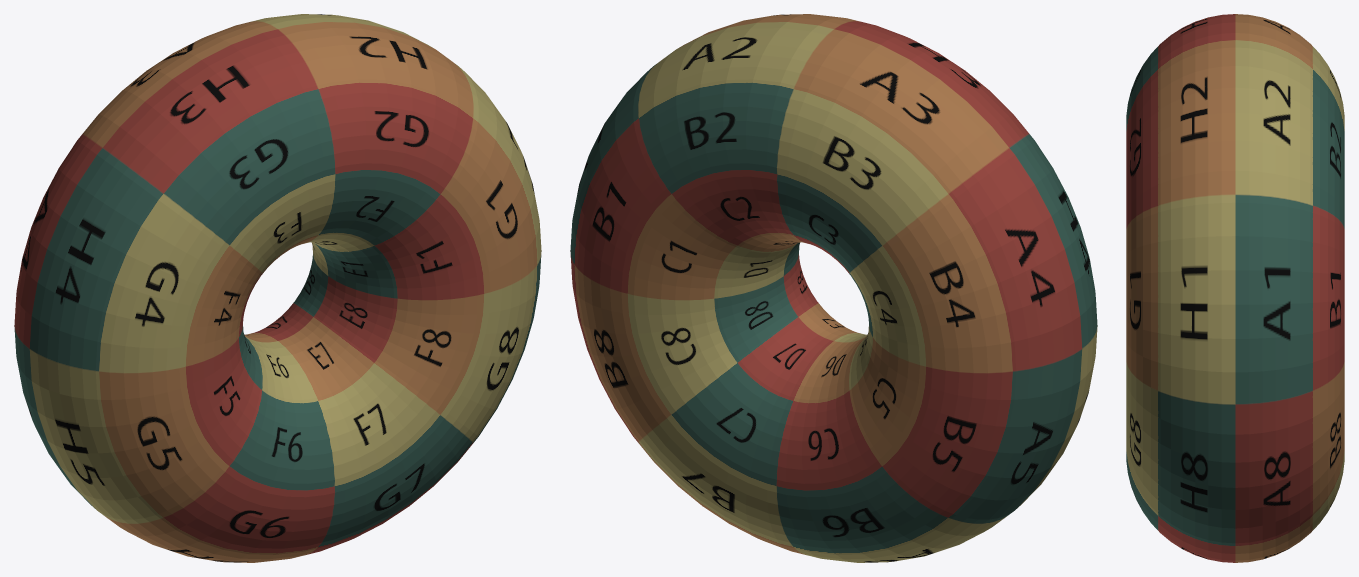
The model's file is texture_torus_R4_r24.glb.
3 views of the same model, side by side, from view 1: azimuth 30°, elevation 25°; view 2: azimuth 150°, elevation 25°; view 3: azimuth 270°, elevation 25° (orthographic). The views are drawn at different scales.
Visible parts, largest first — view 1: world; view 2: world; view 3: world.
Boxes of the visible parts, <box> form: world: <box>14,14,541,562</box>; world: <box>570,14,1097,562</box>; world: <box>1126,14,1344,562</box>.
Bounding box in the file's own units: 21.07 × 21.03 × 8.38.
1 material, 1 textured.
